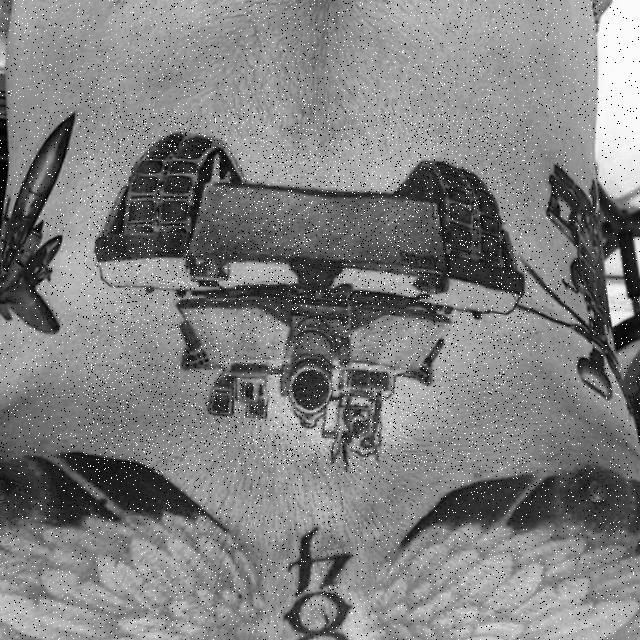MIL_MBT: (84, 111, 529, 473)
